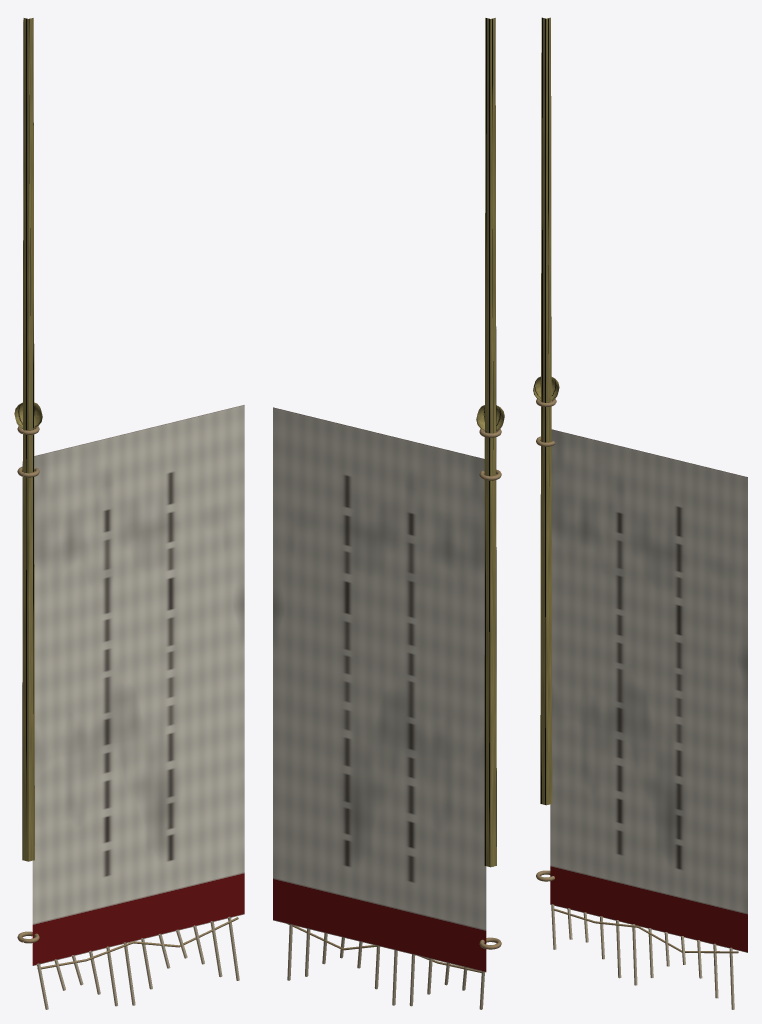
Rendered from spirit_flag.glb.
The picture shows the model from 3 angles, left to right: view 1: azimuth 30°, elevation 25°; view 2: azimuth 150°, elevation 25°; view 3: azimuth 330°, elevation 25°; orthographic projection. The views are drawn at different scales.
Parts seen in each view (by area): view 1: Cloth, Pole, Art_Parchment, Art_UnbleachedPaper; view 2: Cloth, Pole, Art_Parchment; view 3: Cloth, Pole, Art_Parchment.
Boxes of the visible parts, x1,y1,x2,y2 form: Cloth: (32,405,244,965); Pole: (22,18,34,861); Art_Parchment: (37,916,239,1009); Art_UnbleachedPaper: (37,917,238,969); Cloth: (273,407,486,972); Pole: (484,18,496,867); Art_Parchment: (287,924,484,1009); Cloth: (550,429,747,952); Pole: (540,17,552,805); Art_Parchment: (551,904,734,1009).
Size of the model in its own units: 0.54 by 2.28 by 0.06.
5 materials, 4 textured.
